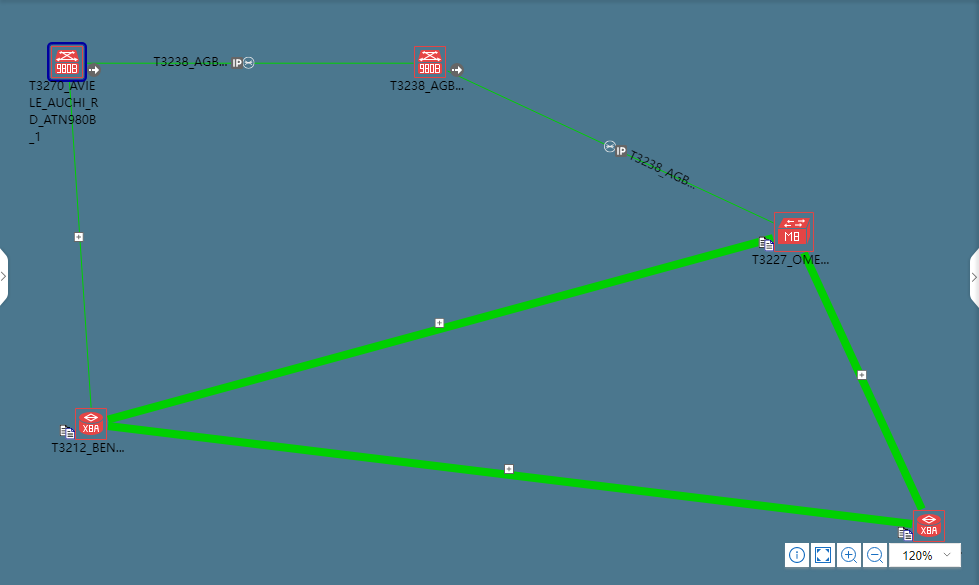ATN_Red: (413, 51, 448, 80), (52, 51, 81, 80)
Link_Green: (119, 228, 779, 429), (211, 436, 909, 527), (450, 69, 779, 227), (798, 253, 922, 508), (64, 81, 92, 410)
Router_Red: (774, 216, 815, 251), (76, 412, 104, 441), (915, 510, 944, 537)
Switch_Red: (774, 216, 815, 251)
